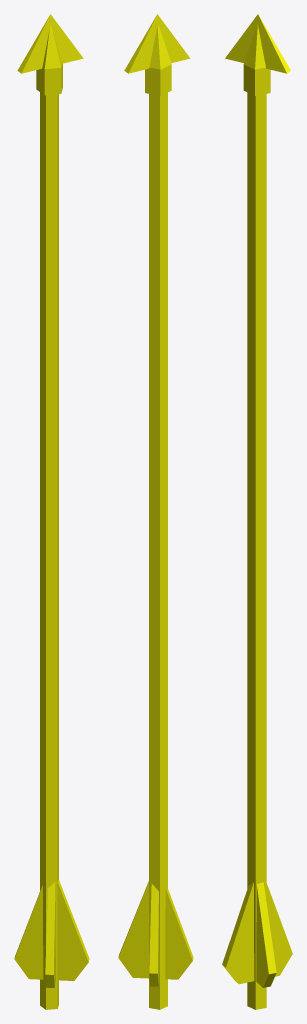
Rendered from _arrow_b_18.glb.
3 views of the same model, side by side, from view 1: azimuth 30°, elevation 25°; view 2: azimuth 210°, elevation 25°; view 3: azimuth 330°, elevation 25° (orthographic).
Parts seen in each view (by area): view 1: arrow_b_18; view 2: arrow_b_18; view 3: arrow_b_18.
Part boxes in pixels (x1=…): arrow_b_18: x1=14, y1=14, x2=89, y2=1009; arrow_b_18: x1=118, y1=14, x2=193, y2=1009; arrow_b_18: x1=222, y1=14, x2=292, y2=1009.
Bounding box in the file's own units: 1220 × 18575 × 1136.
